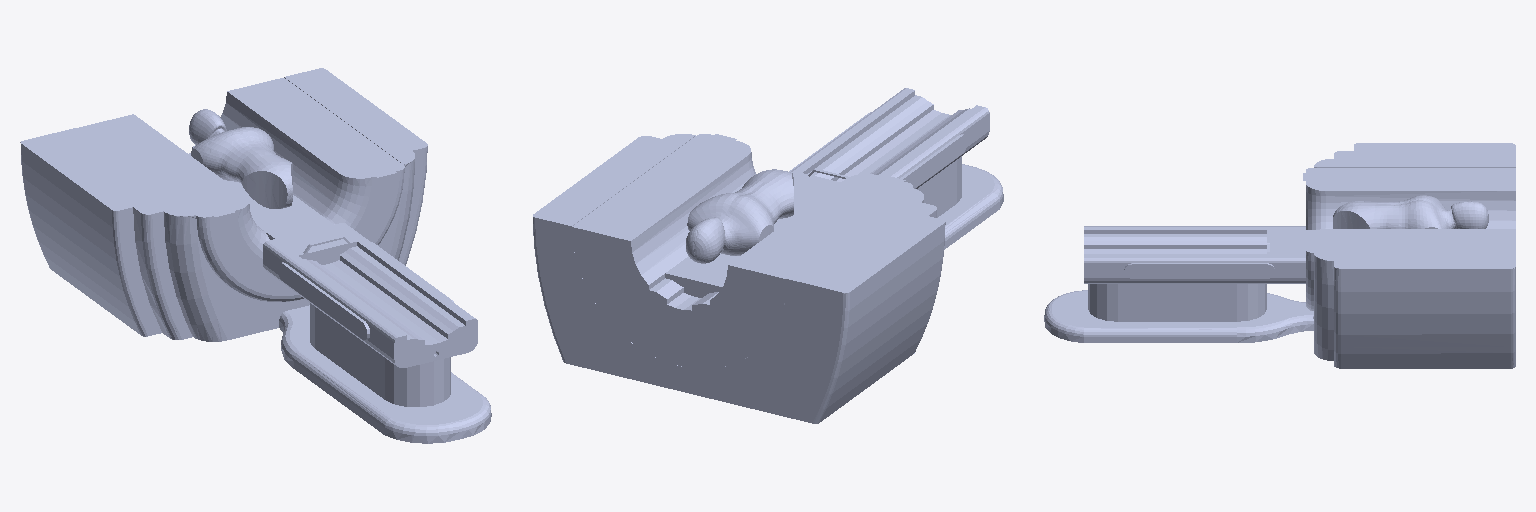
The robot description file, URDF, robot "peice_of_shit":
<robot
  name="peice_of_shit">
  <link
    name="base_link">
    <inertial>
      <origin
        xyz="0.31803811954545 -0.29703172839354 -0.0935093213667964"
        rpy="0 0 0" />
      <mass
        value="3282.85733987993" />
      <inertia
        ixx="1068.14319909707"
        ixy="21.1523215231564"
        ixz="-11.6693287578101"
        iyy="689.579906110039"
        iyz="-87.9435652986677"
        izz="1358.60972602126" />
    </inertial>
    <visual>
      <origin
        xyz="0 0 0"
        rpy="0 0 0" />
      <geometry>
        <mesh
          filename="package://peice_of_shit/meshes/base_link.STL" />
      </geometry>
      <material
        name="">
        <color
          rgba="0.792156862745098 0.819607843137255 0.933333333333333 1" />
      </material>
    </visual>
    <collision>
      <origin
        xyz="0 0 0"
        rpy="0 0 0" />
      <geometry>
        <mesh
          filename="package://peice_of_shit/meshes/base_link.STL" />
      </geometry>
    </collision>
  </link>
</robot>

--- What the picture shows (computed from the rendered views, not written in the file) ---
The picture shows the robot from 3 angles, left to right: view 1: azimuth 30°, elevation 25°; view 2: azimuth 150°, elevation 25°; view 3: azimuth 270°, elevation 25°; orthographic projection.
Model peice_of_shit with 1 links and 0 joints (none), rooted at base_link, posed all joints at 0.
Visible links, largest first — view 1: base_link; view 2: base_link; view 3: base_link.
Boxes of the visible links, <box> form: base_link: <box>20,68,491,443</box>; base_link: <box>533,88,1003,423</box>; base_link: <box>1044,143,1515,368</box>.
Size in the robot's own frame: 1.92 by 3.04 by 0.8742 metres.
Meshes: 1 distinct files referenced, 1 mesh visuals loaded (1 binary STL).